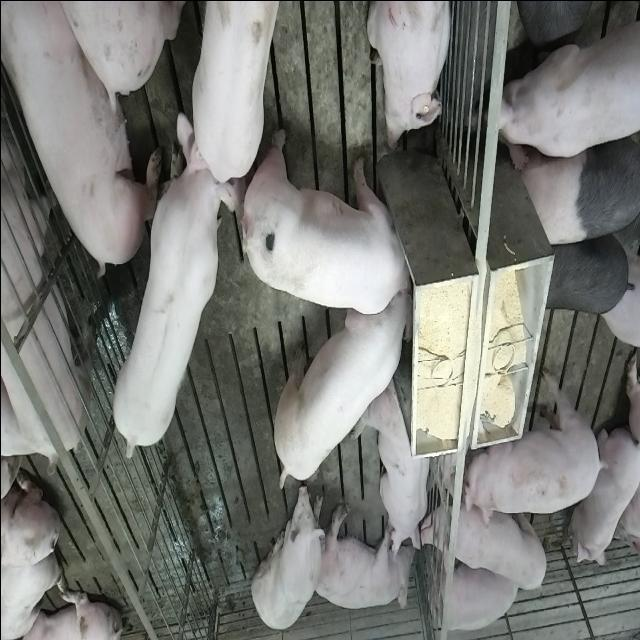Feeding: (244, 126, 420, 315), (268, 285, 410, 495)
Lateral_lying: (310, 502, 416, 612)
Sitting: (250, 481, 324, 633)
Standing: (0, 21, 99, 466), (106, 123, 234, 457), (496, 0, 638, 161), (461, 375, 609, 522), (170, 0, 278, 183), (516, 124, 638, 249), (526, 227, 632, 315)
Sternal_lying: (358, 374, 432, 556), (365, 0, 453, 150), (572, 418, 638, 568), (429, 548, 521, 634)
